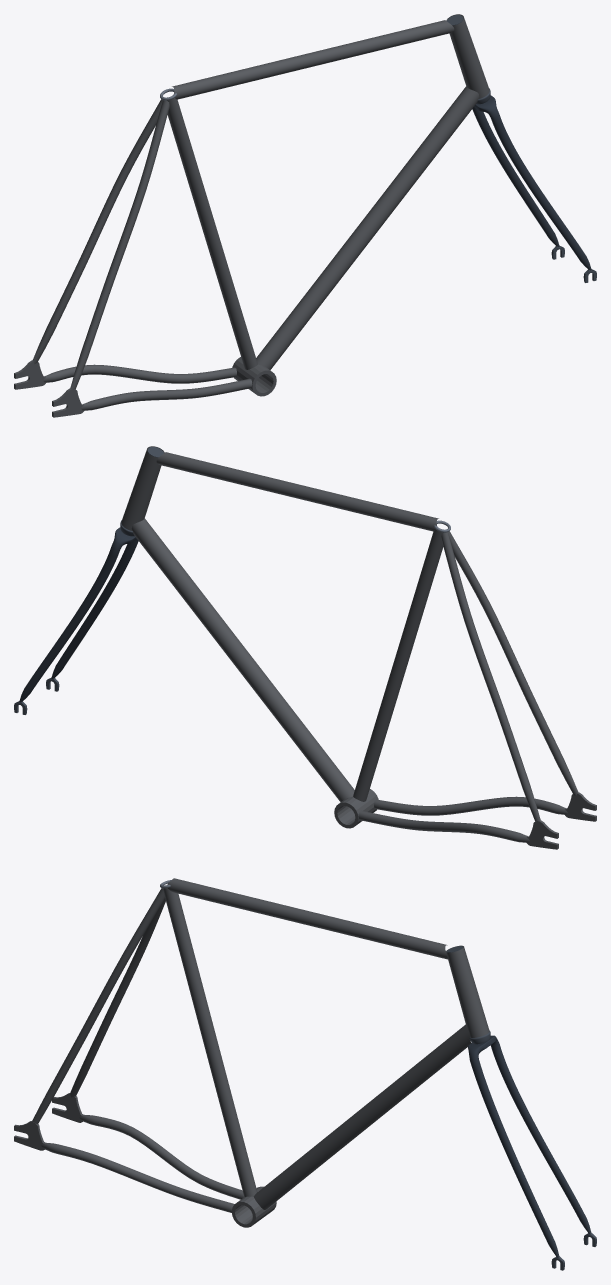
The model's file is wabi-prism-57.glb.
3 renders of one model, top to bottom at view 1: azimuth 30°, elevation 25°; view 2: azimuth 150°, elevation 25°; view 3: azimuth 330°, elevation 25°, orthographic.
Visible parts, largest first — view 1: paint_down, paint_top, paint_seat, paint_seatstay_1, paint_seatstay_-1, paint_chainstay_-1, paint_chainstay_1, fork_blade_1, paint_head, fork_blade_-1, paint_bottom_bracket, rear_dropout_1 (+1 smaller); view 2: paint_down, paint_top, paint_seat, paint_seatstay_-1, paint_seatstay_1, paint_chainstay_1, paint_chainstay_-1, fork_blade_-1, paint_head, fork_blade_1, paint_bottom_bracket, rear_dropout_-1 (+1 smaller); view 3: paint_down, paint_seat, paint_top, paint_seatstay_1, paint_chainstay_1, paint_head, fork_blade_1, paint_chainstay_-1, fork_blade_-1, paint_seatstay_-1, paint_bottom_bracket, rear_dropout_1 (+1 smaller).
Boxes of the visible parts, <box> form: paint_down: <box>256,86,479,370</box>; paint_top: <box>172,20,454,99</box>; paint_seat: <box>167,98,257,369</box>; paint_seatstay_1: <box>70,100,169,389</box>; paint_seatstay_-1: <box>32,99,162,364</box>; paint_chainstay_-1: <box>43,364,236,383</box>; paint_chainstay_1: <box>81,378,252,410</box>; fork_blade_1: <box>491,115,591,270</box>; paint_head: <box>446,14,489,98</box>; fork_blade_-1: <box>472,107,559,246</box>; paint_bottom_bracket: <box>232,357,276,396</box>; rear_dropout_1: <box>52,388,84,417</box>; paint_down: <box>131,518,354,802</box>; paint_top: <box>156,452,438,531</box>; paint_seat: <box>353,530,443,801</box>; paint_seatstay_-1: <box>441,532,540,821</box>; paint_seatstay_1: <box>448,531,578,795</box>; paint_chainstay_1: <box>374,796,567,815</box>; paint_chainstay_-1: <box>358,810,529,842</box>; fork_blade_-1: <box>19,547,119,702</box>; paint_head: <box>121,446,164,530</box>; fork_blade_1: <box>51,539,138,678</box>; paint_bottom_bracket: <box>334,789,378,828</box>; rear_dropout_-1: <box>526,820,558,849</box>; paint_down: <box>253,1024,471,1209</box>; paint_seat: <box>162,888,257,1196</box>; paint_top: <box>167,878,447,959</box>; paint_seatstay_1: <box>32,888,164,1124</box>; paint_chainstay_1: <box>41,1142,234,1212</box>; paint_head: <box>446,945,489,1037</box>; fork_blade_1: <box>470,1059,559,1257</box>; paint_chainstay_-1: <box>79,1114,244,1199</box>; fork_blade_-1: <box>491,1044,591,1234</box>; paint_seatstay_-1: <box>70,898,165,1097</box>; paint_bottom_bracket: <box>231,1186,276,1227</box>; rear_dropout_1: <box>14,1121,44,1150</box>.
Bounding box in the file's own units: 1.03 × 0.5828 × 0.144.
